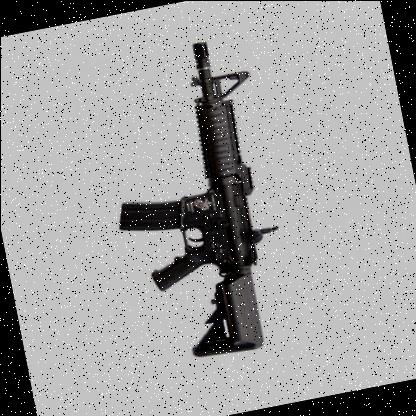rifle: (80, 28, 315, 375)
